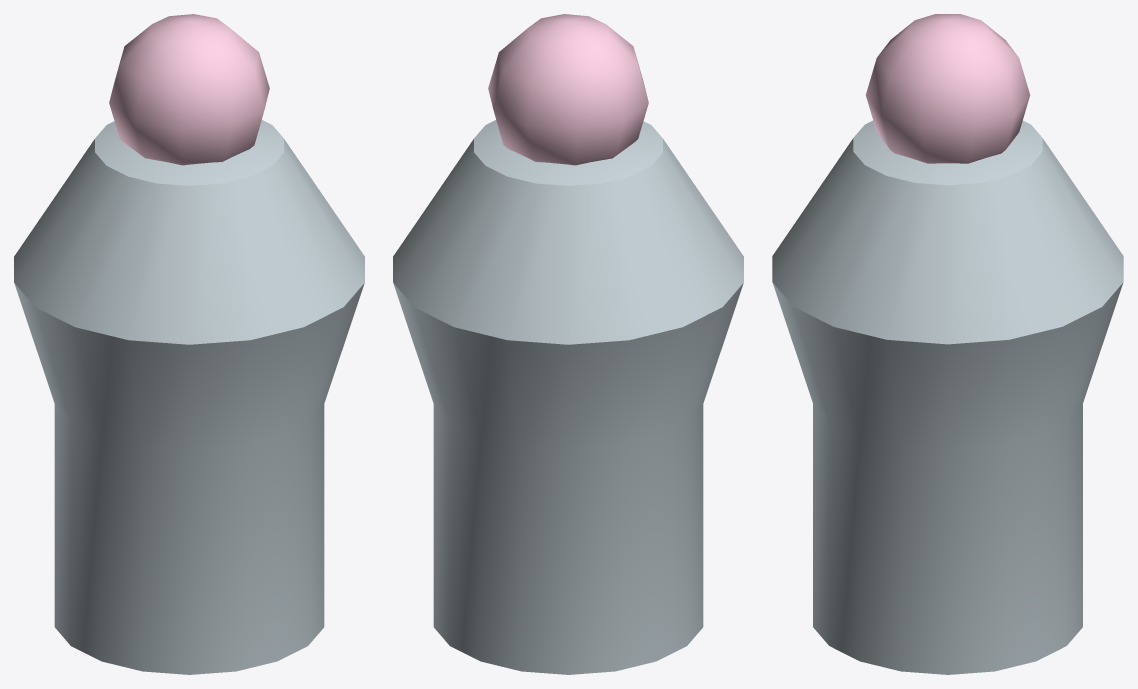
File: CandyJar_B.fbx
The picture shows the model from 3 angles, left to right: view 1: azimuth 30°, elevation 25°; view 2: azimuth 150°, elevation 25°; view 3: azimuth 270°, elevation 25°; orthographic projection.
Visible parts, largest first — view 1: CandyJar_B; view 2: CandyJar_B; view 3: CandyJar_B.
Part boxes in pixels (box(x1,y1,x2,y2)): CandyJar_B: box(14, 14, 364, 674); CandyJar_B: box(393, 14, 743, 674); CandyJar_B: box(772, 14, 1123, 674).
Size of the model in its own units: 1.3 by 2.4 by 1.28.
